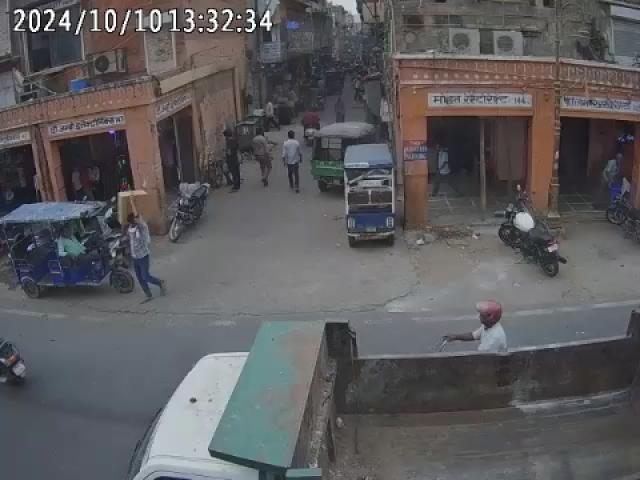auto: (0, 196, 111, 296), (342, 148, 399, 250), (312, 121, 379, 193)
helmet: (476, 300, 506, 328)
motorbike: (502, 206, 566, 278), (605, 189, 640, 246)
motorbike-rider: (432, 302, 512, 354), (164, 181, 210, 239)
person: (124, 214, 160, 302), (282, 130, 305, 193), (434, 146, 458, 198), (253, 132, 276, 186)
